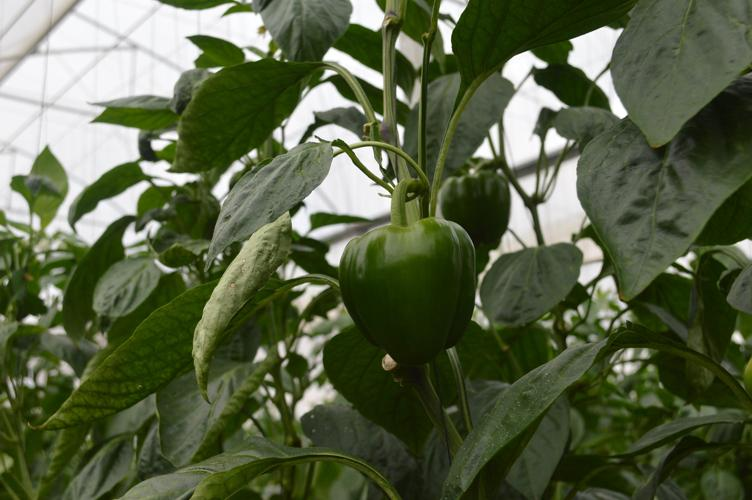BellPepper: (331, 219, 477, 369), (423, 155, 525, 258)
